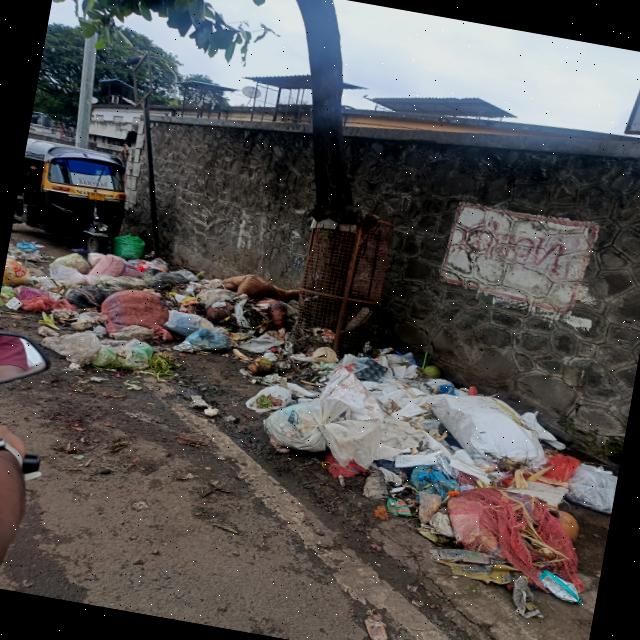garbage: (232, 324, 620, 560), (0, 225, 297, 392)
